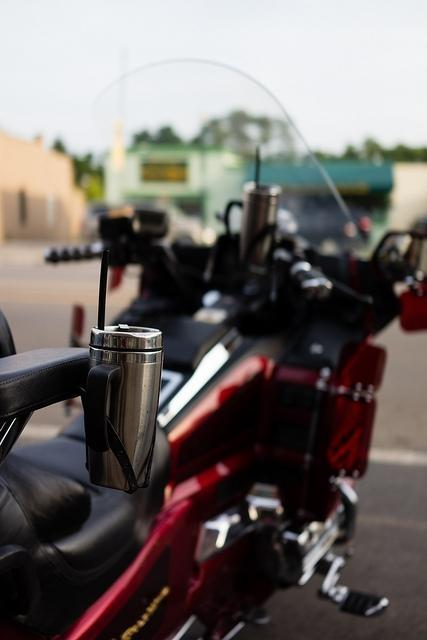motorcycle: (0, 57, 427, 630)
